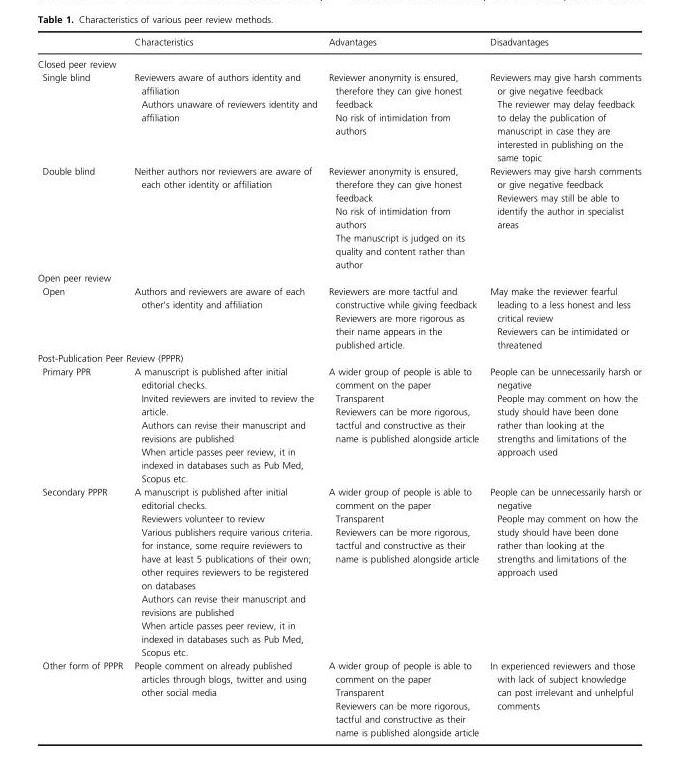table: (37, 37, 641, 737)
table column: (128, 37, 322, 737), (322, 37, 483, 737), (483, 37, 641, 737), (37, 37, 128, 737)
table column header: (37, 37, 641, 53)
table projected row header: (37, 53, 641, 70), (37, 351, 641, 365), (37, 271, 641, 284)
table row: (37, 485, 641, 659), (37, 365, 641, 485), (37, 164, 641, 271), (37, 70, 641, 164), (37, 659, 641, 737), (37, 284, 641, 351), (37, 53, 641, 70), (37, 37, 641, 53), (37, 351, 641, 365), (37, 271, 641, 284)
